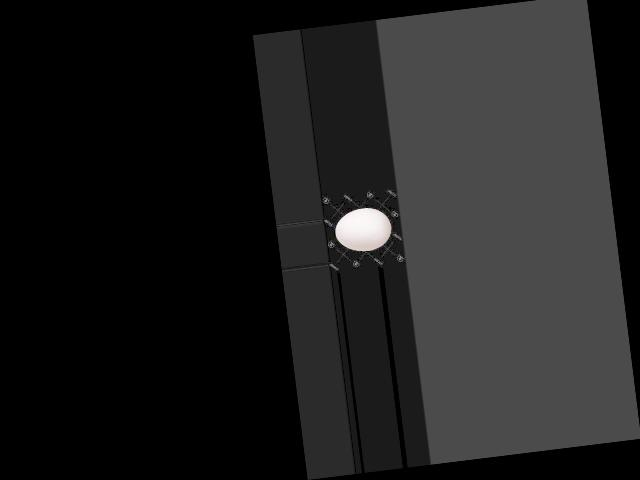egg: (333, 205, 393, 253)
